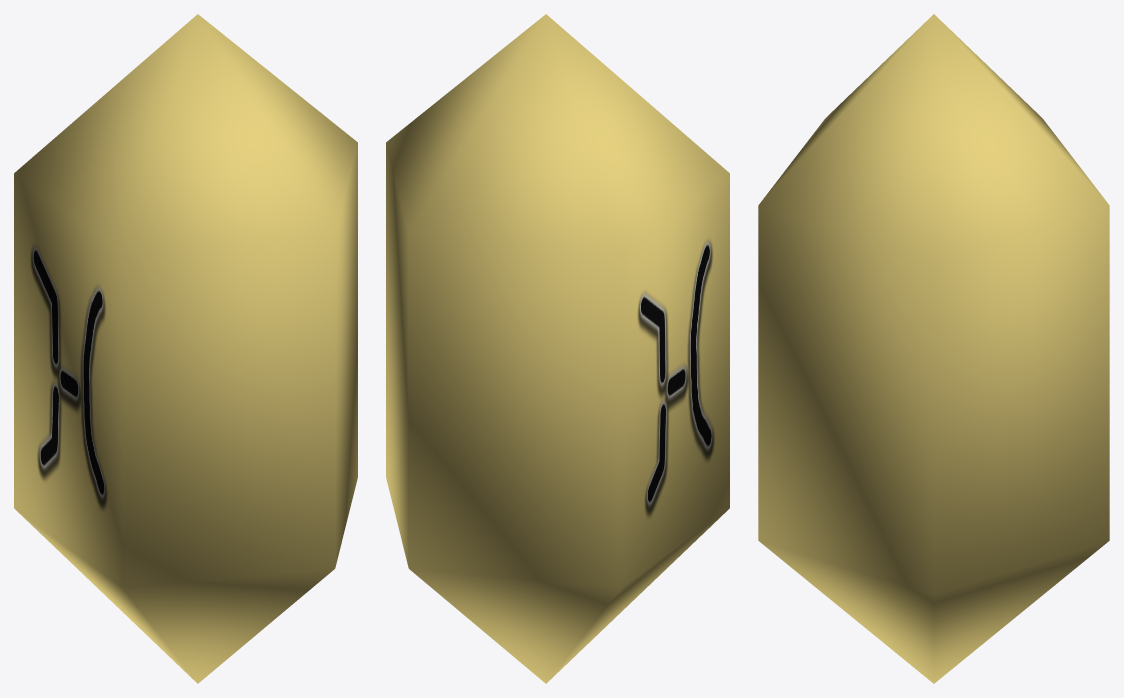
Rendered from Hod_Relic.fbx.
The picture shows the model from 3 angles, left to right: view 1: azimuth 30°, elevation 25°; view 2: azimuth 150°, elevation 25°; view 3: azimuth 270°, elevation 25°; orthographic projection.
Parts seen in each view (by area): view 1: pCylinder1; view 2: pCylinder1; view 3: pCylinder1.
Boxes of the visible parts, left/top/right/bottom form: pCylinder1: left=14, top=14, right=357, bottom=683; pCylinder1: left=386, top=14, right=729, bottom=683; pCylinder1: left=758, top=14, right=1109, bottom=683.
Bounding box in the file's own units: 22.65 × 50.08 × 23.81.
